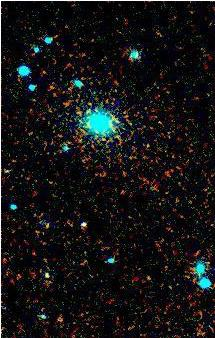star: (32, 262, 62, 292)
